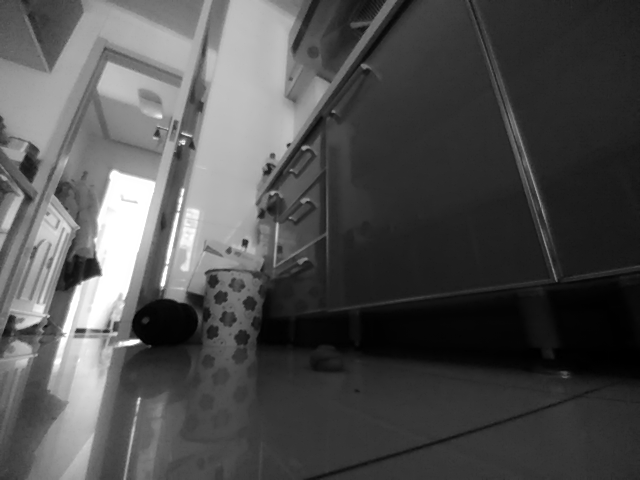pet feces: (310, 345, 347, 373)
